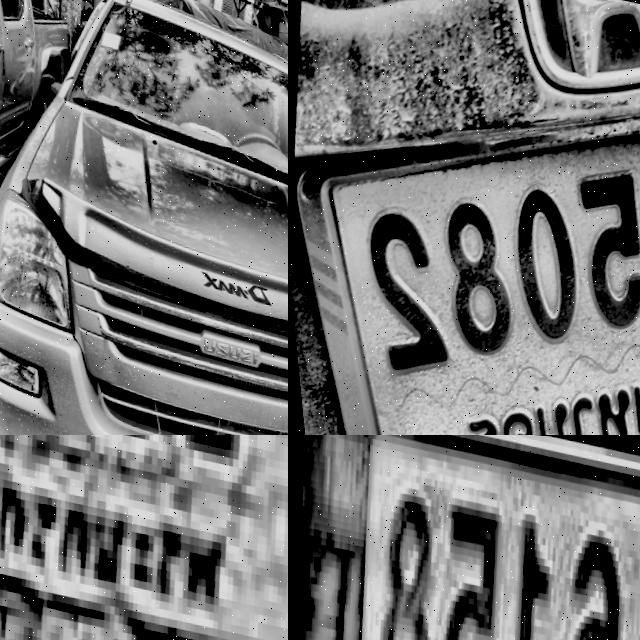license-plate: (288, 0, 640, 435), (288, 435, 640, 640), (0, 435, 288, 640)
